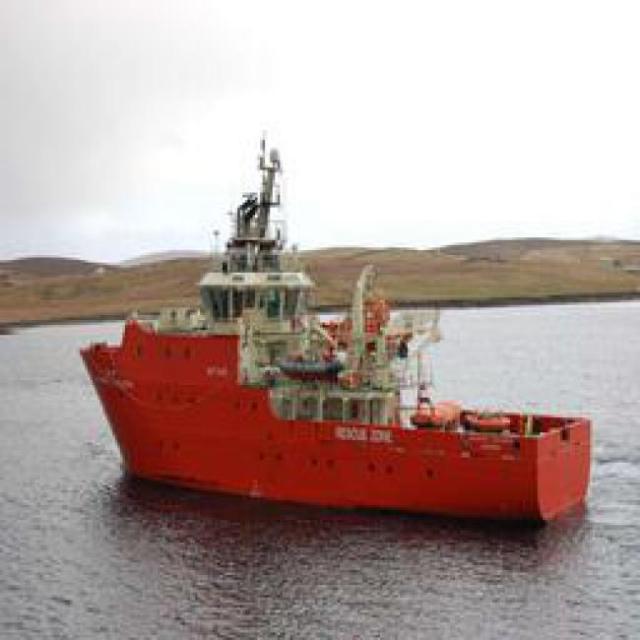boat: (70, 276, 599, 528)
